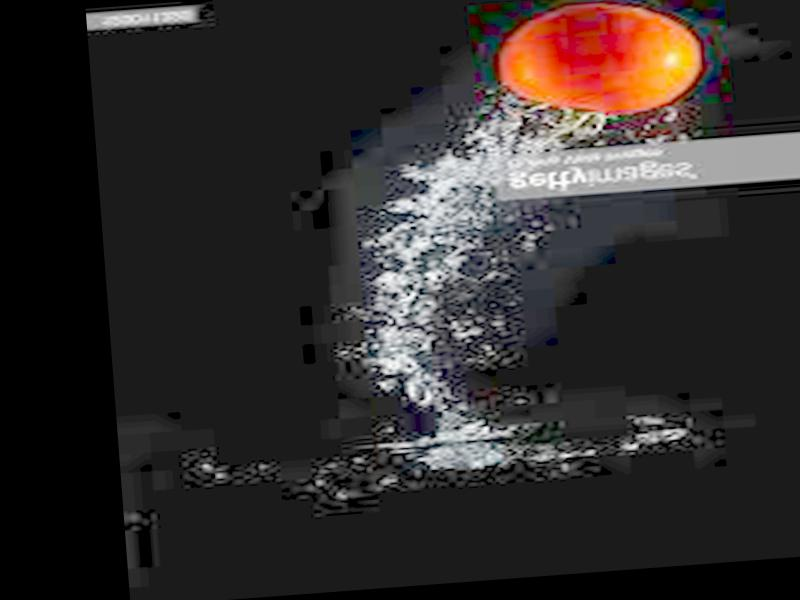Tomato: (493, 0, 704, 123)
